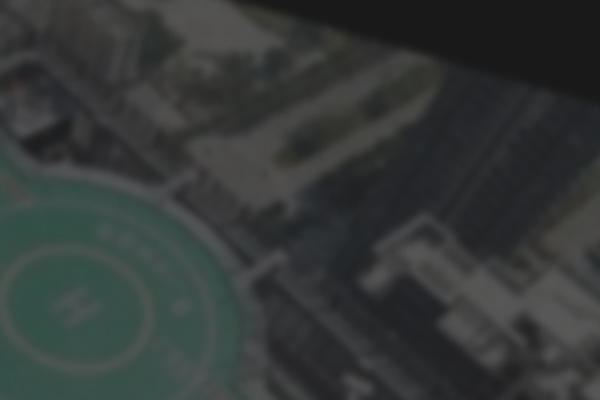Apron: (1, 243, 158, 378)
